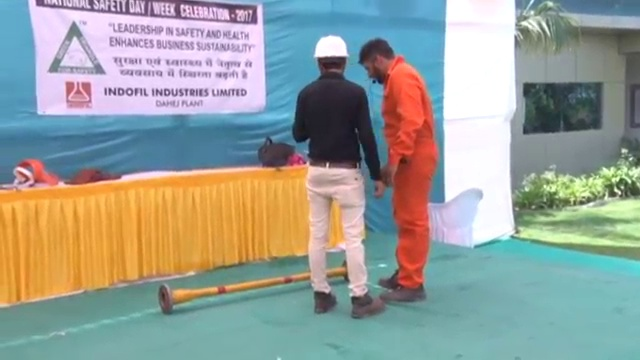helmet: (313, 34, 350, 61)
helmet_off: (359, 37, 394, 86)
helmet_on: (308, 33, 352, 79)
person: (293, 33, 386, 318), (360, 36, 442, 303)
